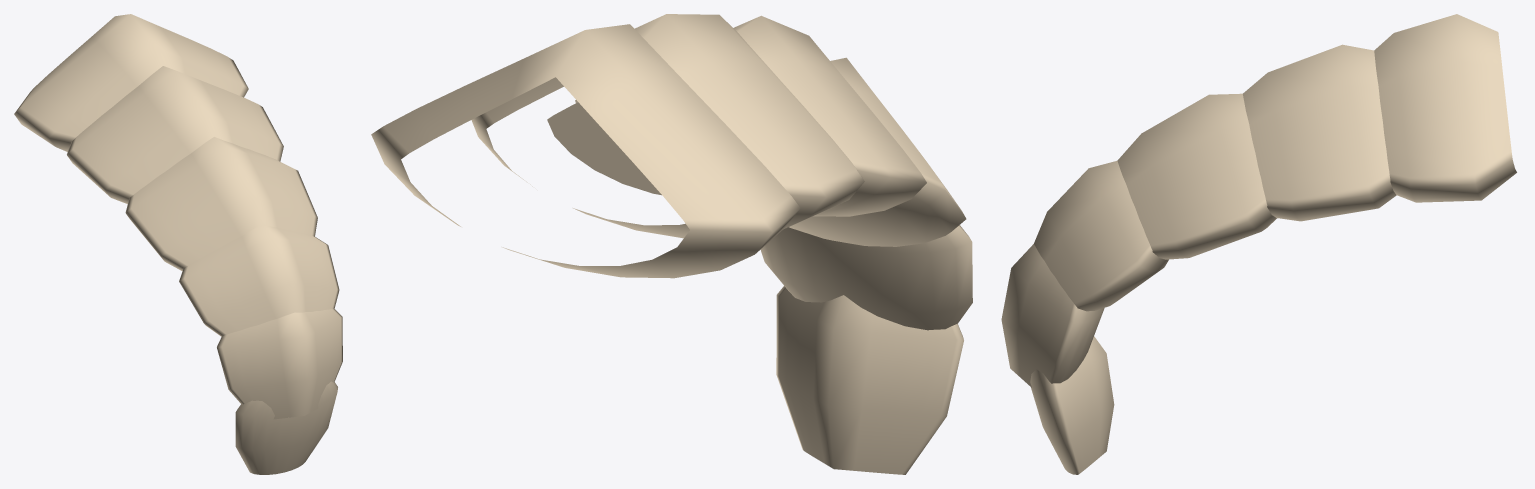
Rendered from transporter_tail.glb.
3 renders of one model, left to right at view 1: azimuth 30°, elevation 25°; view 2: azimuth 150°, elevation 25°; view 3: azimuth 270°, elevation 25°, orthographic. The views are drawn at different scales.
Visible parts, largest first — view 1: transporter_tail; view 2: transporter_tail; view 3: transporter_tail.
Part boxes in pixels (x1,y1,x2,y2): transporter_tail: (14, 14, 342, 474); transporter_tail: (371, 14, 972, 474); transporter_tail: (1001, 14, 1516, 474).
Size of the model in its own units: 0.666 by 1 by 1.06.
